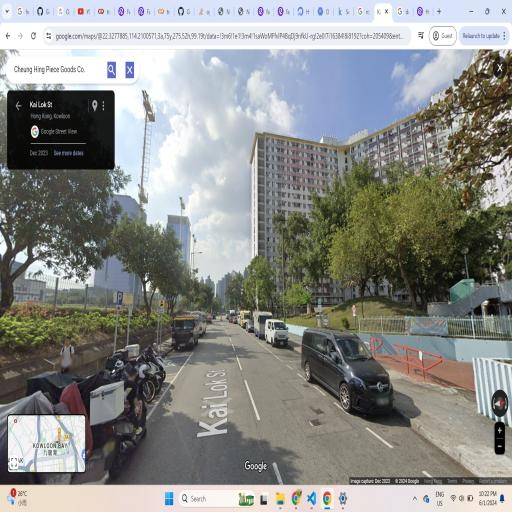Roads: (10, 309, 499, 461)
Trees: (366, 168, 468, 316), (317, 190, 420, 304), (113, 224, 187, 326)
